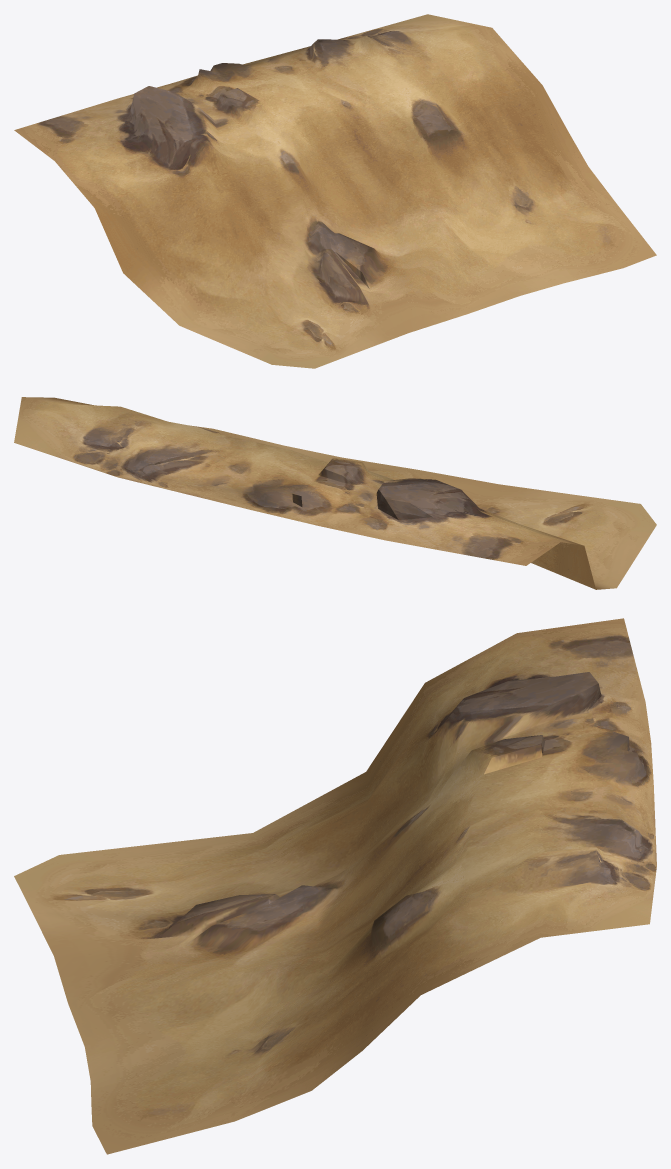
The model's file is xsm_shitou_9.FBX.
The picture shows the model from 3 angles, top to bottom: view 1: azimuth 30°, elevation 25°; view 2: azimuth 150°, elevation 25°; view 3: azimuth 270°, elevation 25°; orthographic projection. The views are drawn at different scales.
Parts seen in each view (by area): view 1: xsm_shitou_10; view 2: xsm_shitou_10; view 3: xsm_shitou_10.
Boxes of the visible parts, bbox=[...] form: xsm_shitou_10: bbox=[14, 14, 656, 368]; xsm_shitou_10: bbox=[14, 397, 656, 589]; xsm_shitou_10: bbox=[14, 618, 656, 1154].
Size of the model in its own units: 216 by 59.66 by 165.
